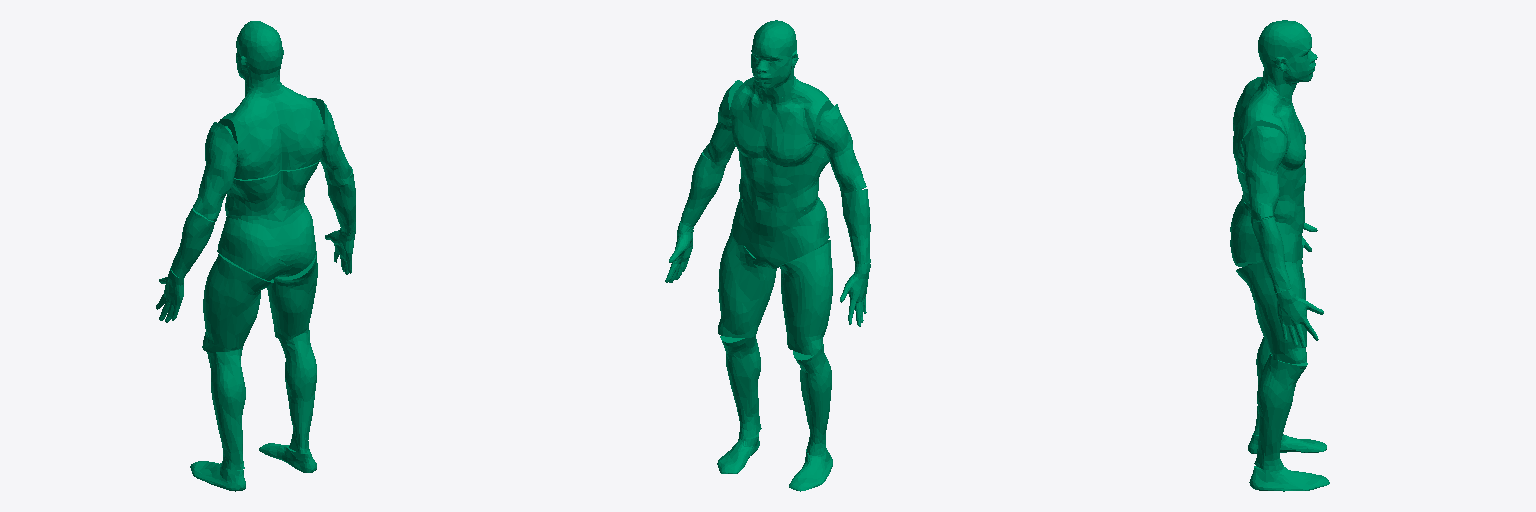
robot.urdf — wheelchair:
<?xml version="1.0" ?>
<!-- =================================================================================== -->
<!-- |    This document was autogenerated by xacro from xarco/wheelchair_with_rider.urdf.xacro | -->
<!-- |    EDITING THIS FILE BY HAND IS NOT RECOMMENDED                                 | -->
<!-- =================================================================================== -->
<!-- Mass and inertia are not correct -->
<robot name="wheelchair" xmlns:xacro="https://www.ros.org/wiki/xacro">
  <link name="wheelchair_main">
    <inertial>
      <origin rpy="0 0 0" xyz="0 0 0"/>
      <mass value="50"/>
      <inertia ixx="22.23722770713" ixy="-0.04006835911" ixz="-0.02300035044" iyy="17.58011380849" iyz="-0.02387139307" izz="28.82981259528"/>
    </inertial>
    <visual>
      <geometry>
        <mesh filename="stl/wheelchair.stl" scale="1 1 1"/>
      </geometry>
      <origin rpy="0 0 1.57079632679" xyz="0 0 0"/>
    </visual>
    <collision>
      <geometry>
        <mesh filename="stl/wheelchair.stl" scale="1 1 1"/>
      </geometry>
      <origin rpy="0 0 1.57079632679" xyz="0 0 0"/>
    </collision>
  </link>
  <link name="bumper">
    <inertial>
      <origin rpy="0 0 0" xyz="0 0 0"/>
      <mass value="1.5"/>
      <inertia ixx="0.02155077848" ixy="0.00000859993" ixz="0.00000332812" iyy="0.03332543416" iyz="0.00575422413" izz="0.04216038950"/>
    </inertial>
    <visual>
      <geometry>
        <mesh filename="stl/bumper.stl" scale="1 1 1"/>
      </geometry>
      <origin rpy="0 0 1.57079632679" xyz="0 0 0"/>
    </visual>
    <collision>
      <geometry>
        <mesh filename="stl/bumper.stl" scale="1 1 1"/>
      </geometry>
      <origin rpy="0 0 1.57079632679" xyz="0 0 0"/>
    </collision>
  </link>
  <joint name="wheelchair_main_to_bumper" type="fixed">
    <parent link="wheelchair_main"/>
    <child link="bumper"/>
    <origin xyz="0.35 0 0.19"/>
    <axis xyz="1 0 0"/>
  </joint>
  <link name="rider">
    <inertial>
      <origin rpy="0 0 0" xyz="0 0 0"/>
      <mass value="72"/>
      <inertia ixx="5.0001" ixy="0" ixz="0" iyy="1.0001" iyz="0" izz="5.0001"/>
    </inertial>
    <visual>
      <geometry>
        <mesh filename="stl/rider.stl" scale="1 1 1"/>
      </geometry>
      <origin rpy="0 0 1.57079632679" xyz="0 0 0"/>
    </visual>
    <collision>
      <geometry>
        <mesh filename="stl/rider.stl" scale="1 1 1"/>
      </geometry>
      <origin rpy="0 0 1.57079632679" xyz="0 0 0"/>
    </collision>
  </link>
  <joint name="wheelchair_main_to_rider" type="fixed">
    <parent link="wheelchair_main"/>
    <child link="rider"/>
    <origin xyz="0 0 0"/>
    <axis xyz="1 0 0"/>
  </joint>
</robot>

--- What the picture shows (computed from the rendered views, not written in the file) ---
The picture shows the robot from 3 angles, left to right: view 1: azimuth 30°, elevation 25°; view 2: azimuth 150°, elevation 25°; view 3: azimuth 270°, elevation 25°; orthographic projection.
Robot: wheelchair — 3 links, 2 joints (2 fixed); root link wheelchair_main; default pose: all joints at 0.
Visible links, largest first — view 1: rider; view 2: rider; view 3: rider.
Link boxes in pixels (bbox=[...]): rider: bbox=[156, 21, 355, 491]; rider: bbox=[665, 20, 870, 491]; rider: bbox=[1230, 20, 1329, 491].
Bounding box of the posed robot: 0.8149 × 0.3663 × 1.82 m (x, y, z).
Meshes: 3 distinct files referenced, 1 mesh visuals loaded (1 binary STL); not drawn: 2 (reference not matched to a file when rendering).